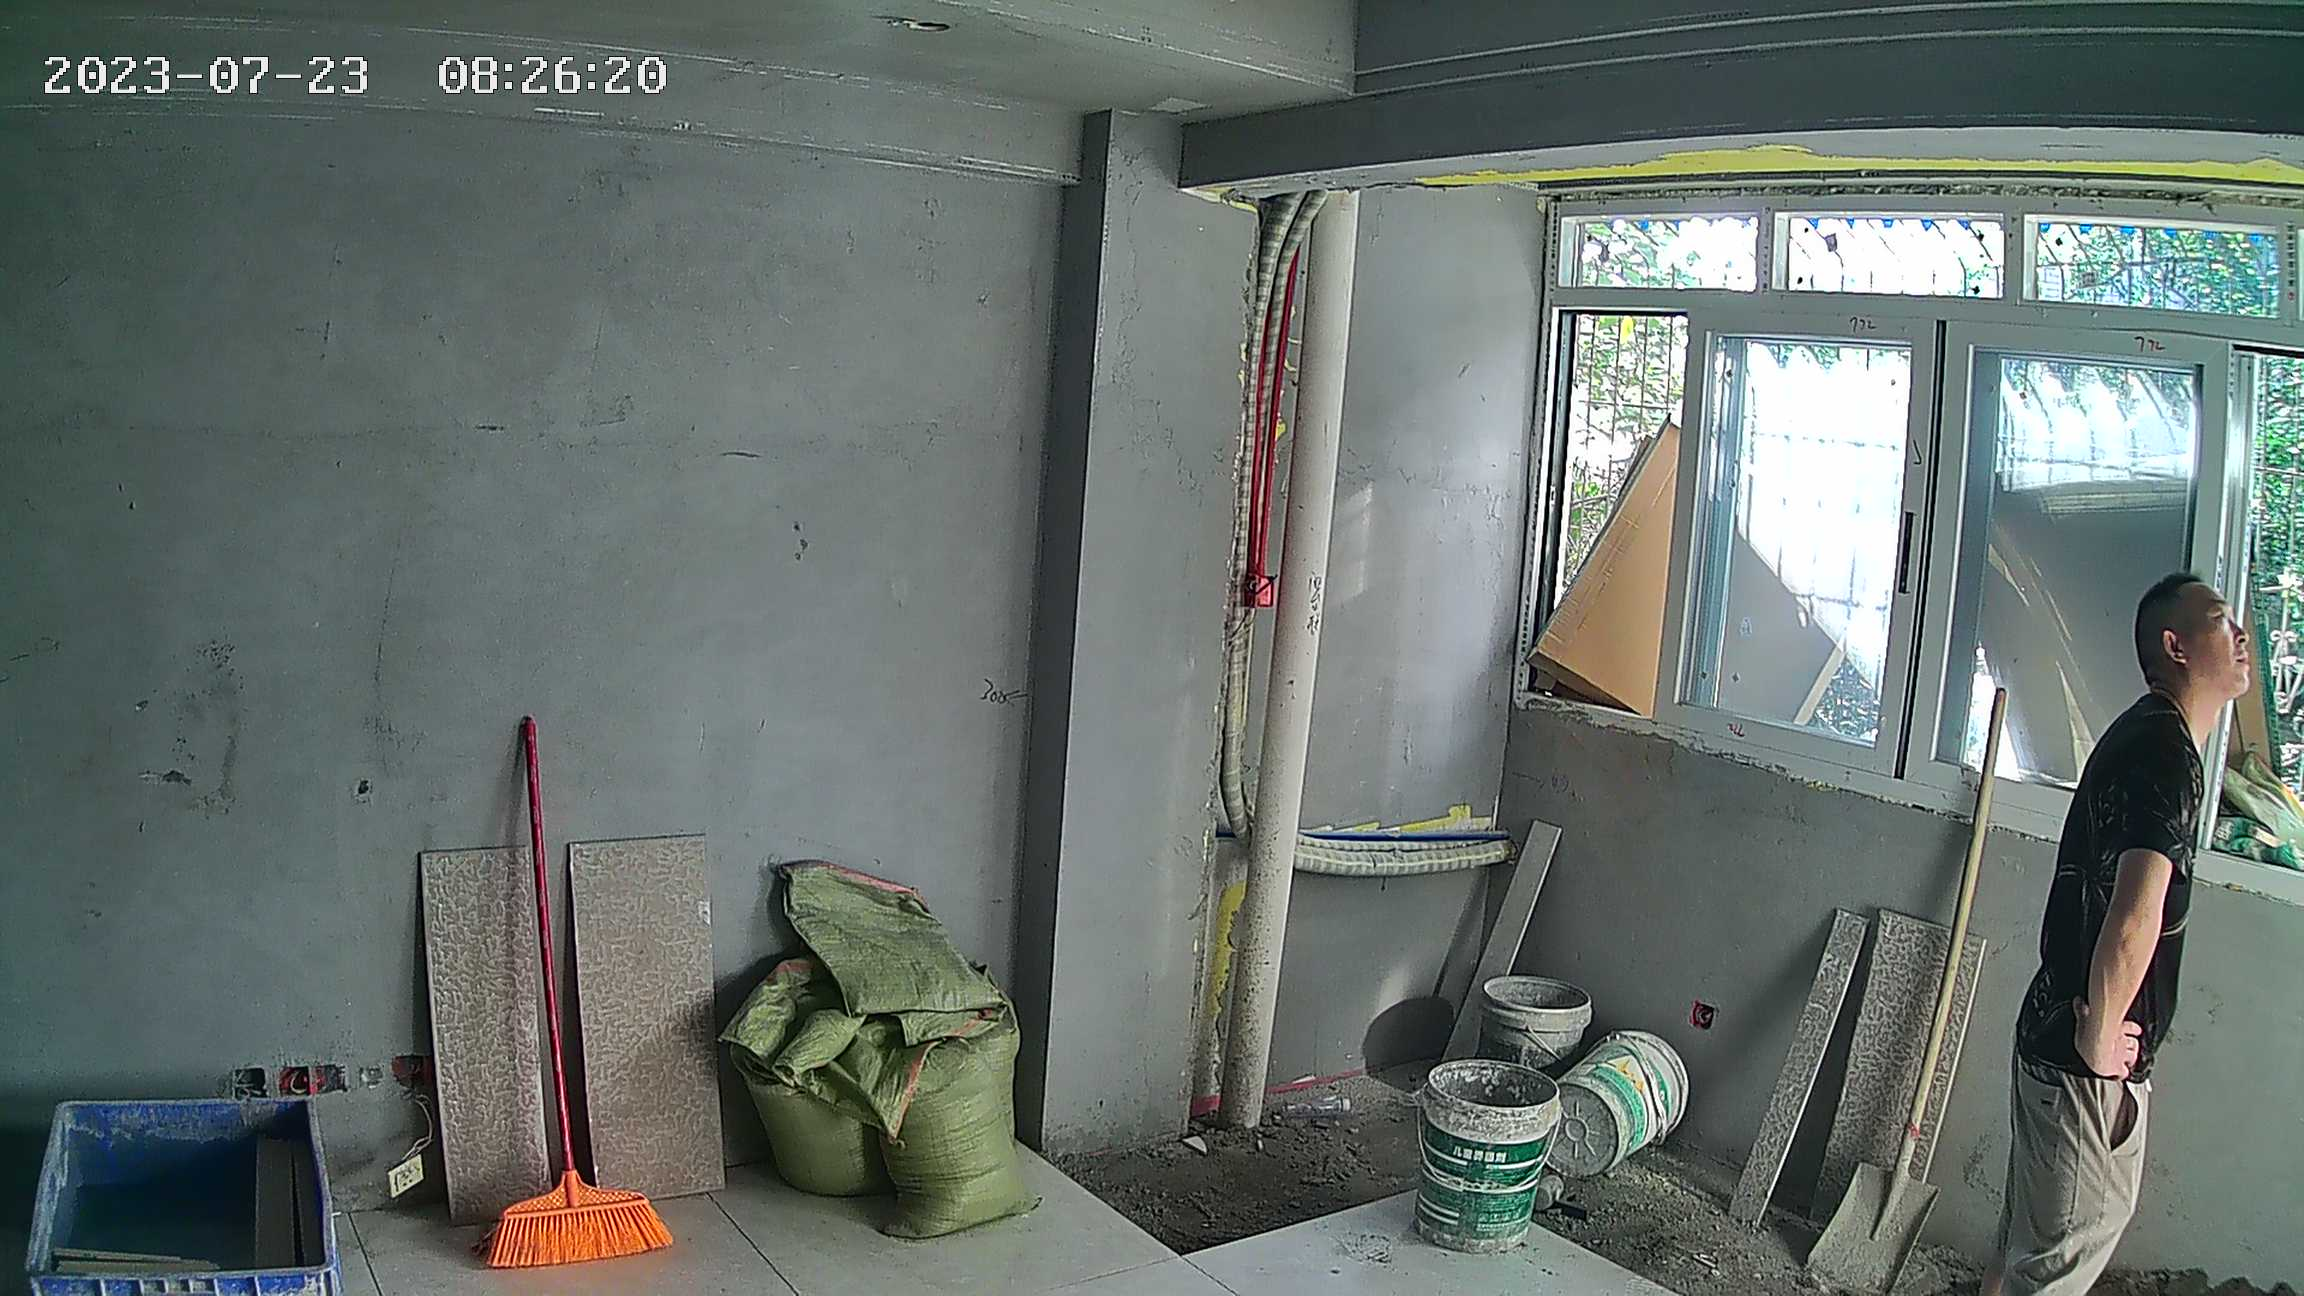people: (2002, 568, 2259, 1296)
window: (1531, 185, 2304, 848)
